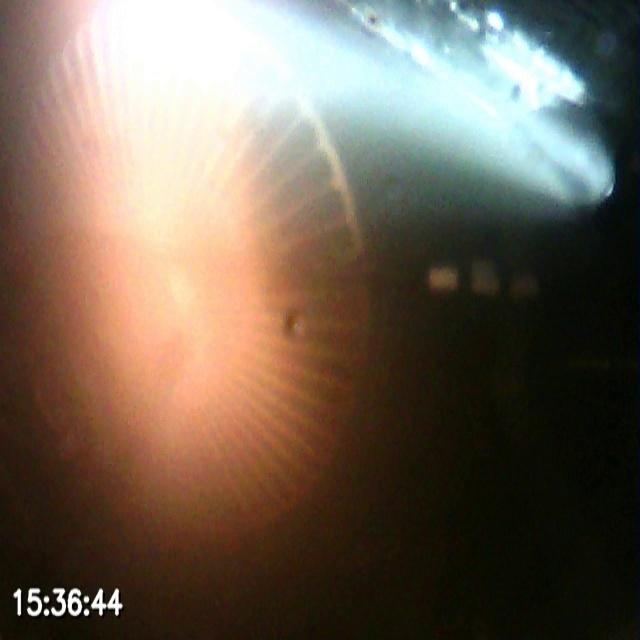white-dots: (426, 259, 544, 303)
